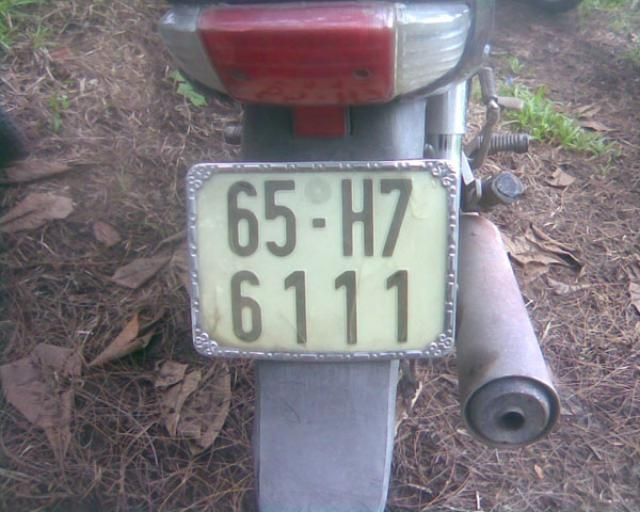plate: (180, 159, 454, 369)
